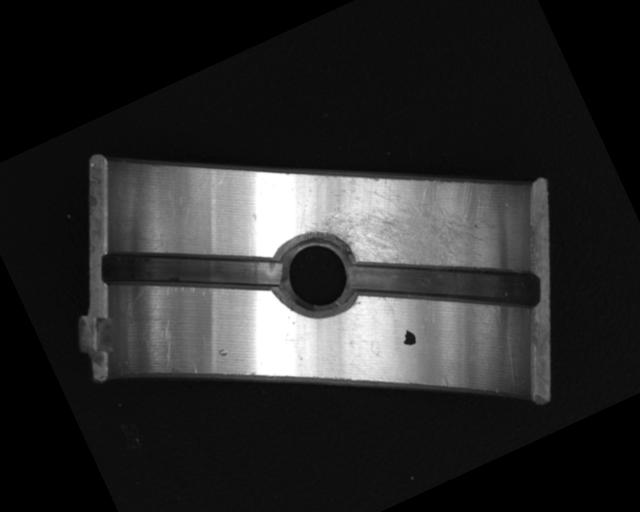blot: (396, 325, 419, 350)
bruise: (215, 344, 230, 359)
gap: (347, 199, 544, 369), (97, 190, 285, 345)
hole: (265, 221, 367, 326)
scratch: (286, 120, 504, 322)
